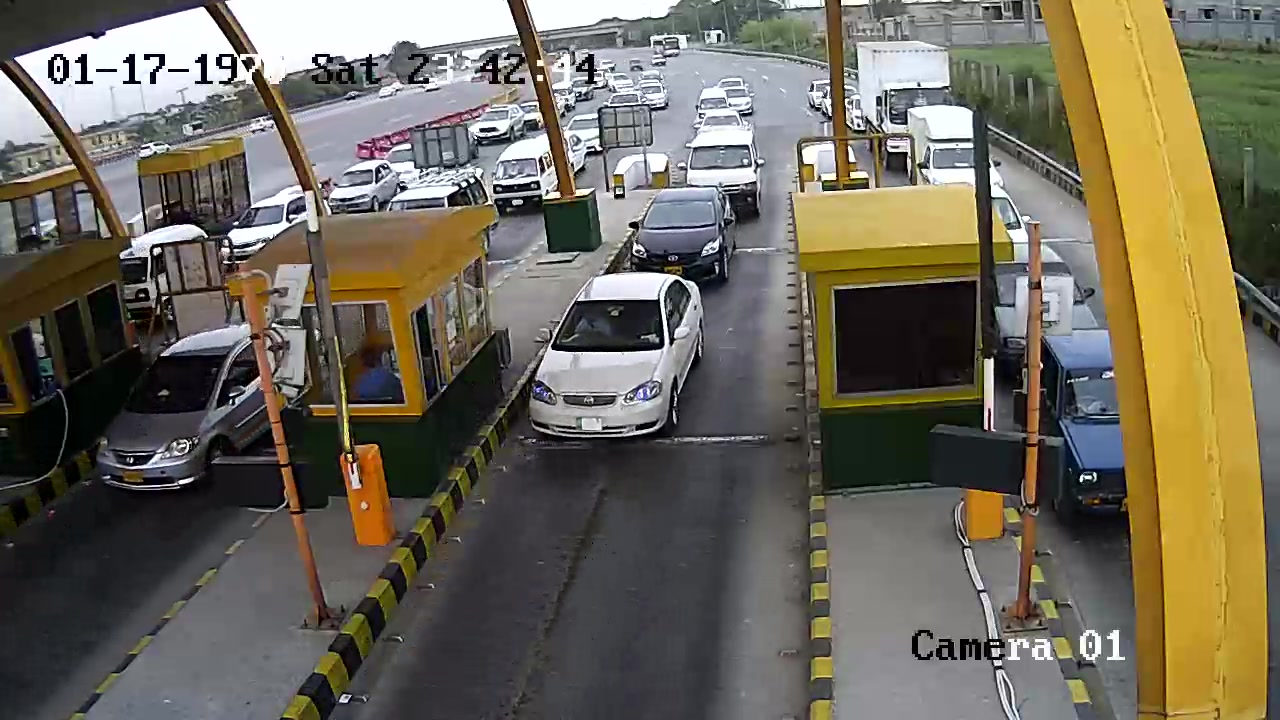F1: (510, 268, 717, 458)
